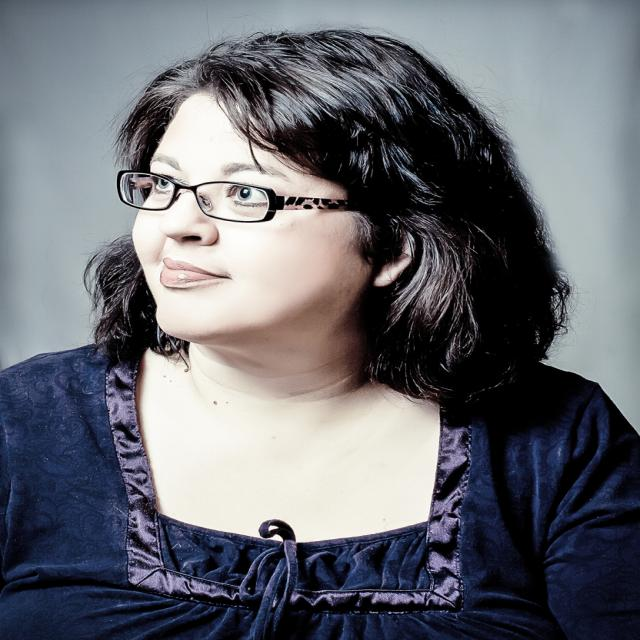Glasses: (114, 170, 376, 227)
